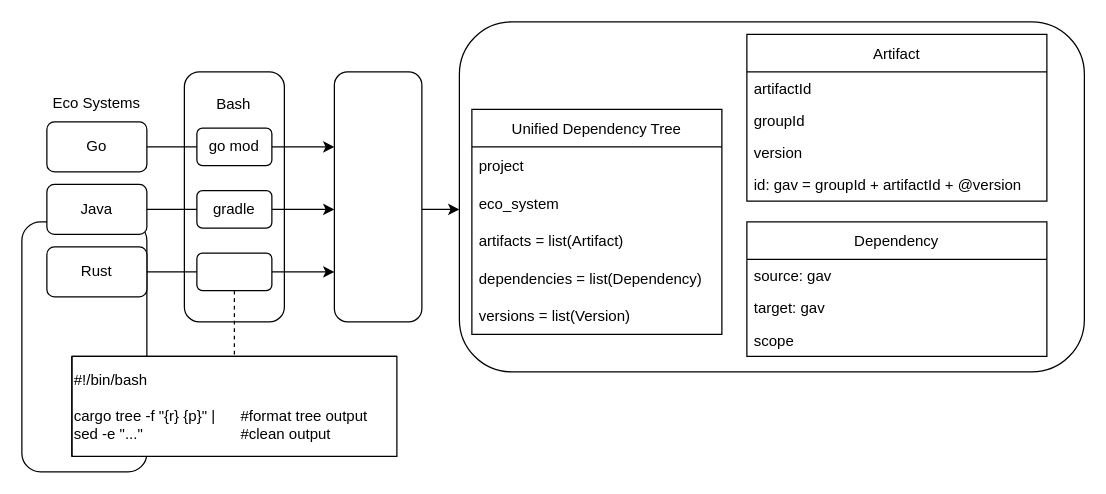
The diagram is 1106 pixels wide and 494 high, and some of its shapes have lost their labels. Each missing label, with the centre of its shape:
cargo: the point at 234,271
Python: the point at 377,196
